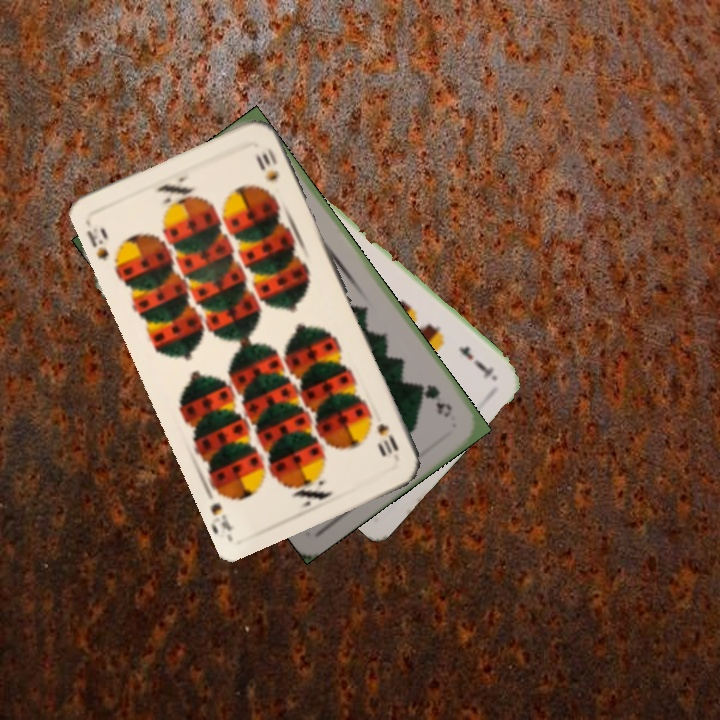E7: (454, 342, 498, 382)
G9: (415, 379, 455, 420)
S10: (82, 217, 111, 263), (373, 419, 401, 457)
